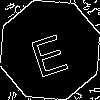E: (25, 25, 71, 78)
